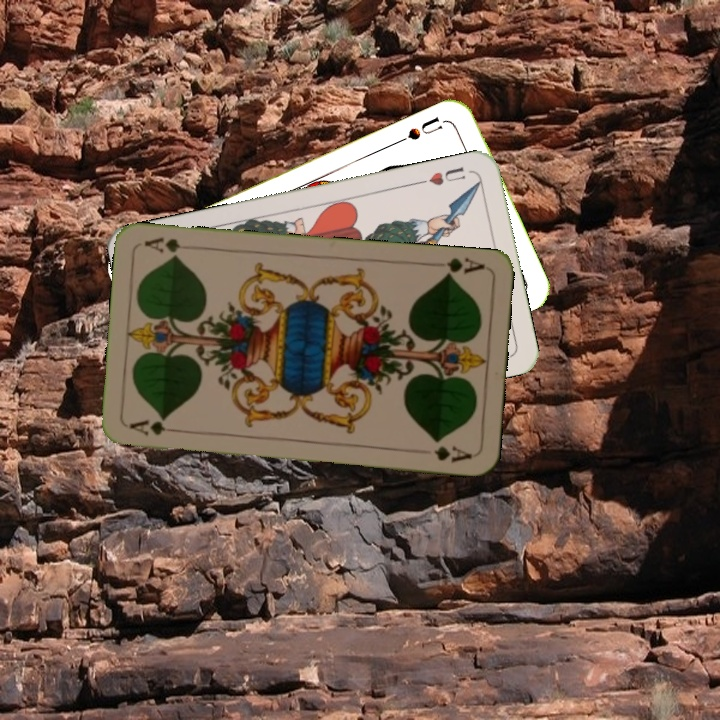GA: (125, 416, 184, 439), (440, 253, 488, 280)
HU: (415, 162, 468, 188)
SU: (393, 112, 445, 146)
